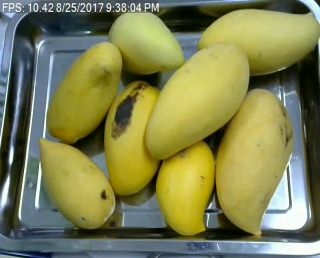Mango: (141, 35, 252, 156), (213, 84, 299, 240), (195, 4, 320, 75), (98, 74, 165, 199), (32, 135, 118, 232), (47, 40, 125, 143), (155, 133, 215, 236), (103, 8, 187, 76)
